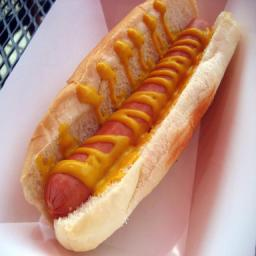hotdog: (44, 153, 107, 214), (77, 115, 134, 174), (131, 70, 175, 115), (114, 95, 159, 139), (155, 47, 190, 89), (173, 25, 207, 67), (185, 16, 218, 50)
